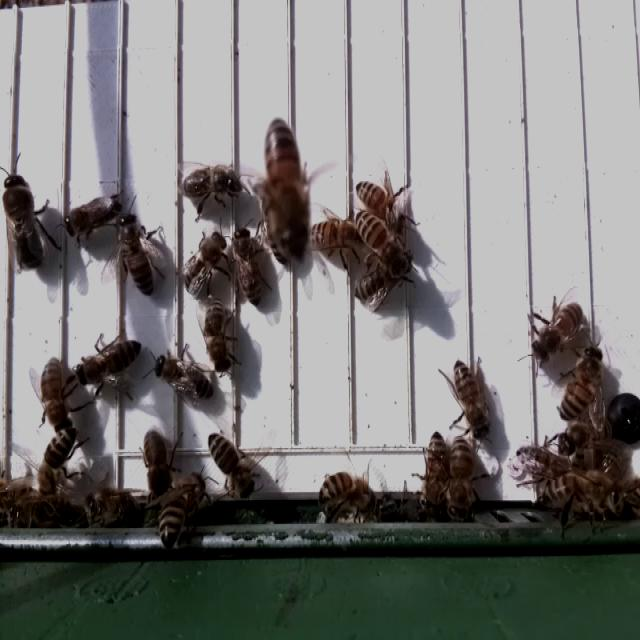Drone: (2, 170, 50, 276)
Worker: (264, 115, 308, 265), (118, 208, 160, 298), (558, 342, 603, 426), (206, 428, 257, 502), (451, 356, 492, 445), (354, 210, 409, 276), (74, 339, 142, 391), (150, 349, 214, 404), (530, 300, 584, 364), (182, 230, 229, 300), (35, 426, 79, 499), (59, 192, 126, 239), (232, 222, 266, 312), (446, 432, 476, 527), (179, 162, 244, 203), (204, 294, 235, 378), (38, 355, 72, 426), (425, 426, 451, 516)
